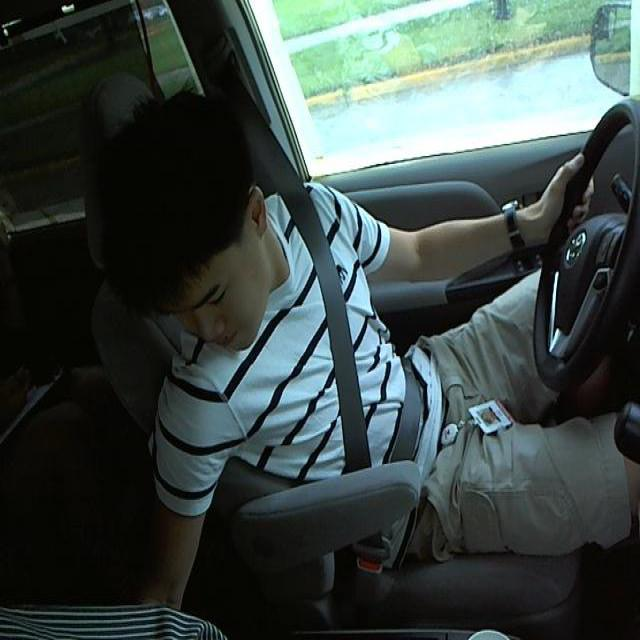seatbelt: (270, 180, 374, 456)
